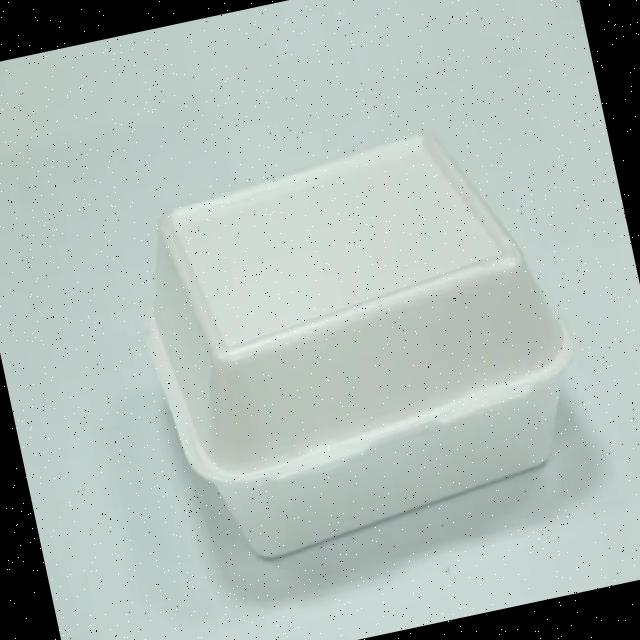styrofoam: (114, 108, 604, 576)
